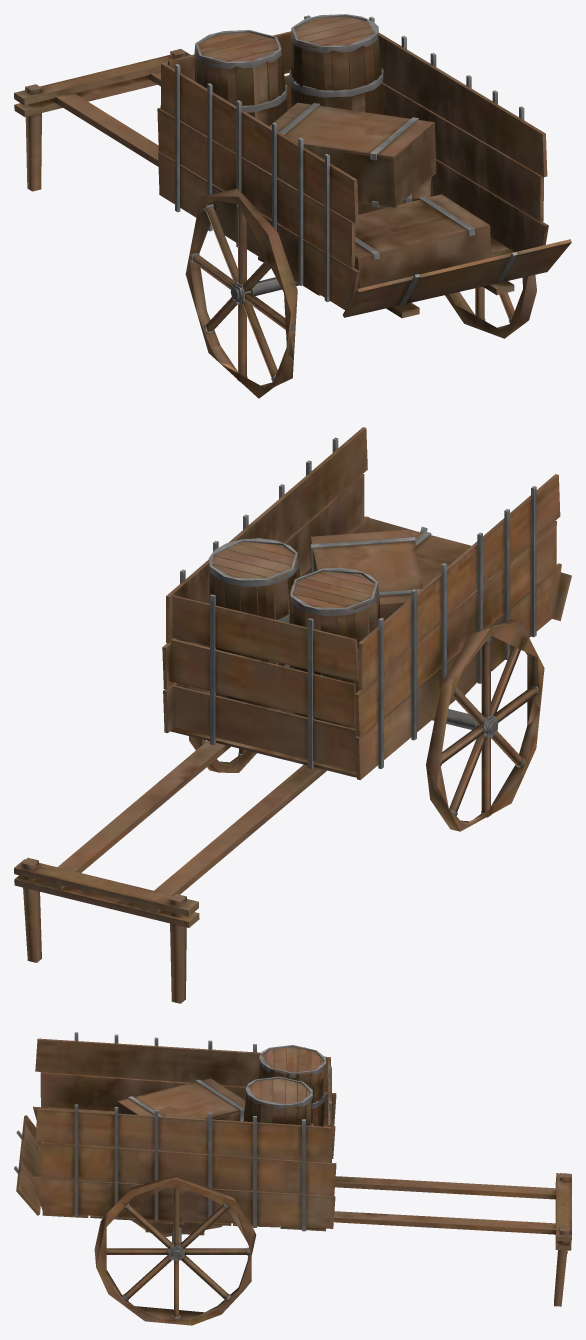
The model's file is wooden-cart.lod0.glb.
3 views of the same model, one above another, from view 1: azimuth 30°, elevation 25°; view 2: azimuth 150°, elevation 25°; view 3: azimuth 270°, elevation 25° (orthographic). The views are drawn at different scales.
Parts seen in each view (by area): view 1: Cylinder.002_wood_0, Cylinder.002_metal_0; view 2: Cylinder.002_wood_0, Cylinder.002_metal_0; view 3: Cylinder.002_wood_0, Cylinder.002_metal_0.
Boxes of the visible parts, x1=… form: Cylinder.002_wood_0: x1=14, y1=16, x2=571, y2=398; Cylinder.002_metal_0: x1=175, y1=14, x2=524, y2=381; Cylinder.002_wood_0: x1=14, y1=427, x2=571, y2=1003; Cylinder.002_metal_0: x1=180, y1=437, x2=538, y2=817; Cylinder.002_wood_0: x1=16, y1=1038, x2=571, y2=1325; Cylinder.002_metal_0: x1=14, y1=1032, x2=331, y2=1319.
Bounding box in the file's own units: 1.85 × 1.91 × 4.59.
2 materials, 2 textured.
